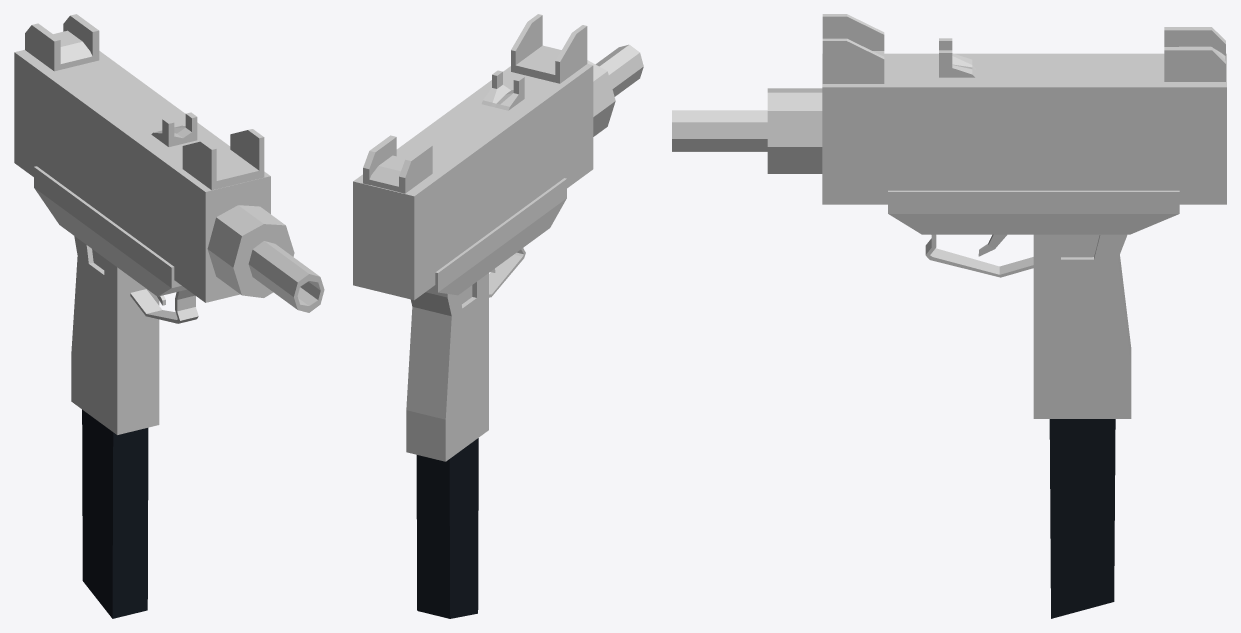
Rendered from uzi.fbx.
The picture shows the model from 3 angles, left to right: view 1: azimuth 30°, elevation 25°; view 2: azimuth 150°, elevation 25°; view 3: azimuth 270°, elevation 25°; orthographic projection. The views are drawn at different scales.
Parts seen in each view (by area): view 1: uzi, charger; view 2: uzi, charger; view 3: uzi, charger.
Boxes of the visible parts, bbox=[...] form: uzi: bbox=[14, 14, 324, 434]; charger: bbox=[82, 409, 148, 618]; uzi: bbox=[353, 14, 643, 461]; charger: bbox=[416, 438, 478, 618]; uzi: bbox=[672, 14, 1226, 418]; charger: bbox=[1049, 419, 1115, 618].
Bounding box in the file's own units: 118 × 871 × 752.
2 materials, 1 textured.
